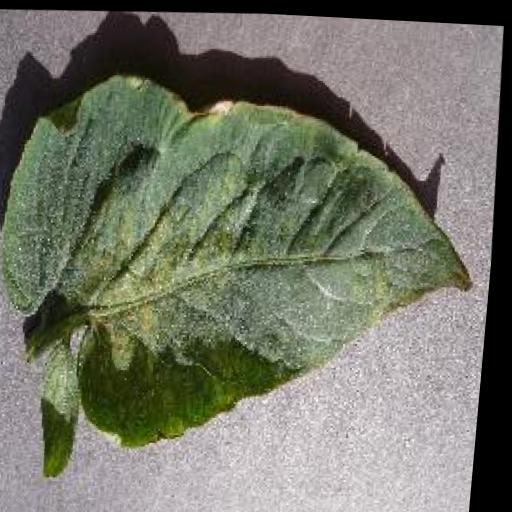Spider Mites: (0, 55, 502, 496)
